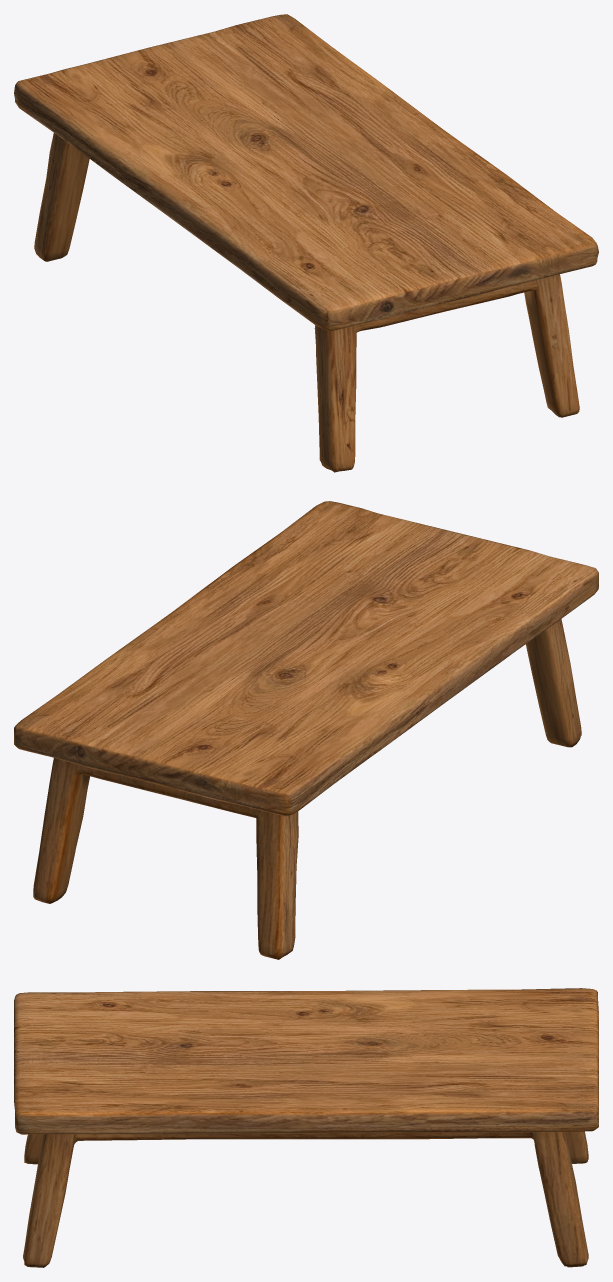
Rendered from coffee_table.glb.
3 views of the same model, one above another, from view 1: azimuth 30°, elevation 25°; view 2: azimuth 150°, elevation 25°; view 3: azimuth 270°, elevation 25° (orthographic). The views are drawn at different scales.
Parts seen in each view (by area): view 1: tripo_node_63d2485a-55ad-4066-a689-3c32dbbca54d; view 2: tripo_node_63d2485a-55ad-4066-a689-3c32dbbca54d; view 3: tripo_node_63d2485a-55ad-4066-a689-3c32dbbca54d.
Boxes of the visible parts, x1,y1,x2,y2 form: tripo_node_63d2485a-55ad-4066-a689-3c32dbbca54d: (14,14,598,472); tripo_node_63d2485a-55ad-4066-a689-3c32dbbca54d: (14,501,598,959); tripo_node_63d2485a-55ad-4066-a689-3c32dbbca54d: (14,988,598,1267).
Bounding box in the file's own units: 0.5026 × 0.3038 × 0.9765.
1 material, 1 textured.
